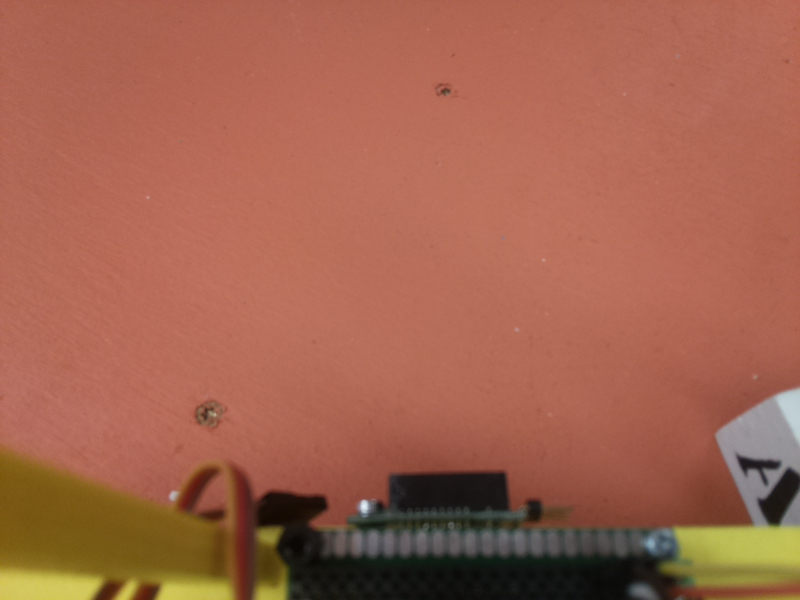blockA: (713, 387, 800, 523)
